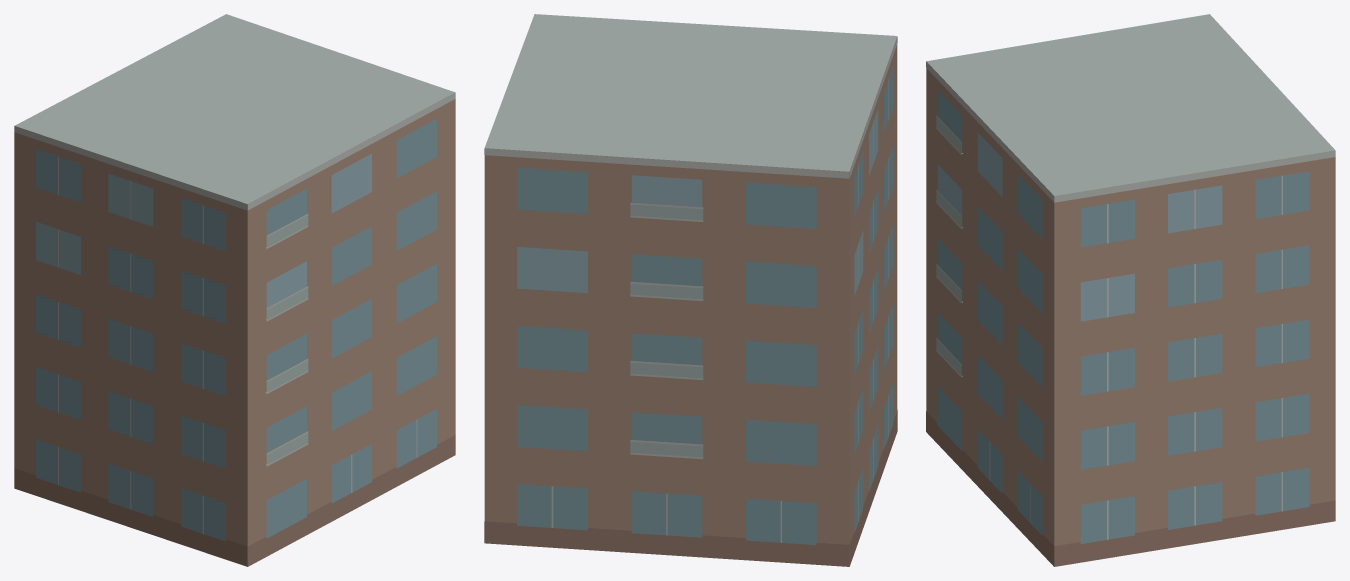
File: survey-upis-32860465.glb
3 views of the same model, side by side, from view 1: azimuth 30°, elevation 25°; view 2: azimuth 150°, elevation 25°; view 3: azimuth 270°, elevation 25° (orthographic). The views are drawn at different scales.
Visible parts, largest first — view 1: survey-upis-32860465.tmp; view 2: survey-upis-32860465.tmp; view 3: survey-upis-32860465.tmp.
Boxes of the visible parts, x1,y1,x2,y2 form: survey-upis-32860465.tmp: (14,14,455,566); survey-upis-32860465.tmp: (484,14,897,566); survey-upis-32860465.tmp: (926,14,1335,566).
Bounding box in the file's own units: 14.55 × 13.8 × 13.82.
